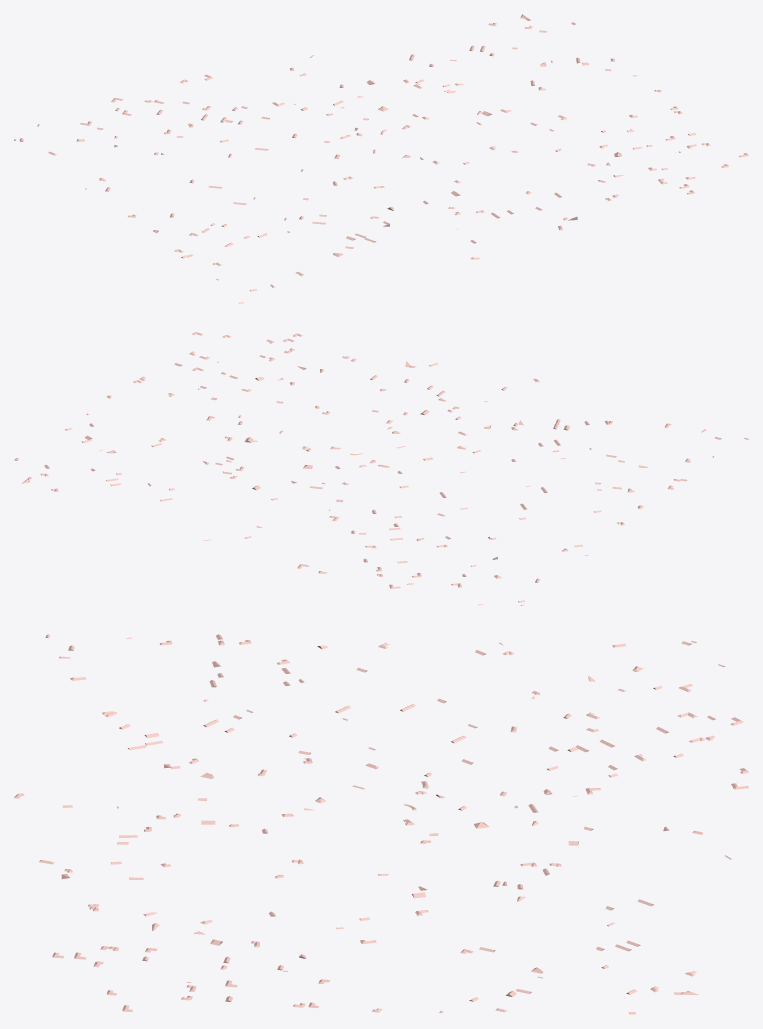
File: FaitageZinc_5.obj
The picture shows the model from 3 angles, top to bottom: view 1: azimuth 30°, elevation 25°; view 2: azimuth 150°, elevation 25°; view 3: azimuth 270°, elevation 25°; orthographic projection. The views are drawn at different scales.
Visible parts, largest first — view 1: FaitageZinc_5; view 2: FaitageZinc_5; view 3: FaitageZinc_5.
Boxes of the visible parts, x1,y1,x2,y2 form: FaitageZinc_5: (14,14,748,303); FaitageZinc_5: (14,332,748,605); FaitageZinc_5: (14,634,748,1014).
Bounding box in the file's own units: 2435 × 80.25 × 2008.
